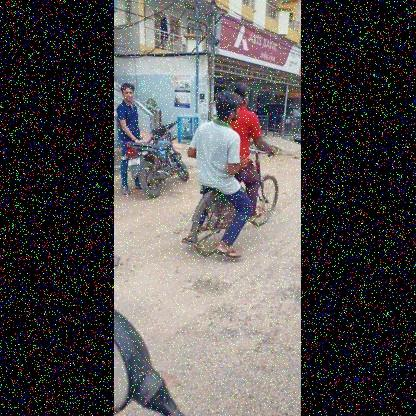Bicycle: (182, 143, 285, 251)
